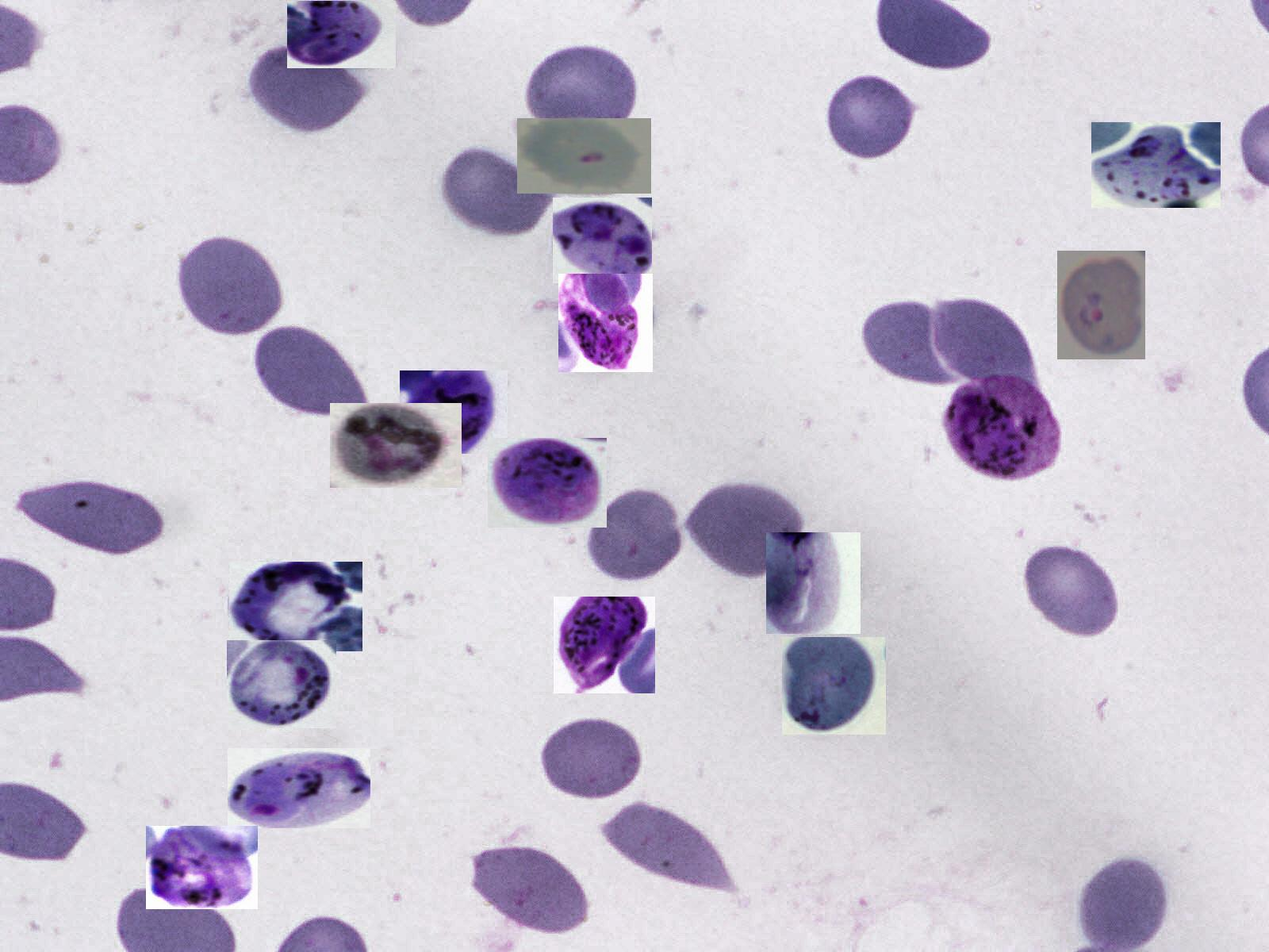Infected: (940, 374, 1062, 477), (229, 562, 362, 651), (228, 748, 370, 828), (330, 403, 462, 488), (1091, 123, 1221, 208), (488, 438, 607, 528), (782, 637, 886, 735), (517, 118, 651, 194), (554, 597, 655, 693), (766, 532, 861, 634), (227, 640, 336, 728), (1057, 251, 1145, 359), (558, 274, 653, 372), (146, 826, 258, 909), (400, 370, 508, 454), (553, 198, 652, 283), (287, 1, 396, 68)
Uninfected: (600, 803, 740, 897), (257, 321, 377, 419), (685, 479, 803, 578), (176, 233, 286, 336), (21, 480, 170, 554), (439, 142, 555, 236), (473, 843, 586, 935), (529, 40, 640, 131), (584, 486, 686, 584), (535, 713, 648, 800), (1074, 850, 1171, 951), (248, 46, 366, 129), (1024, 541, 1120, 639), (929, 296, 1033, 386), (860, 293, 960, 384), (828, 72, 917, 163)
